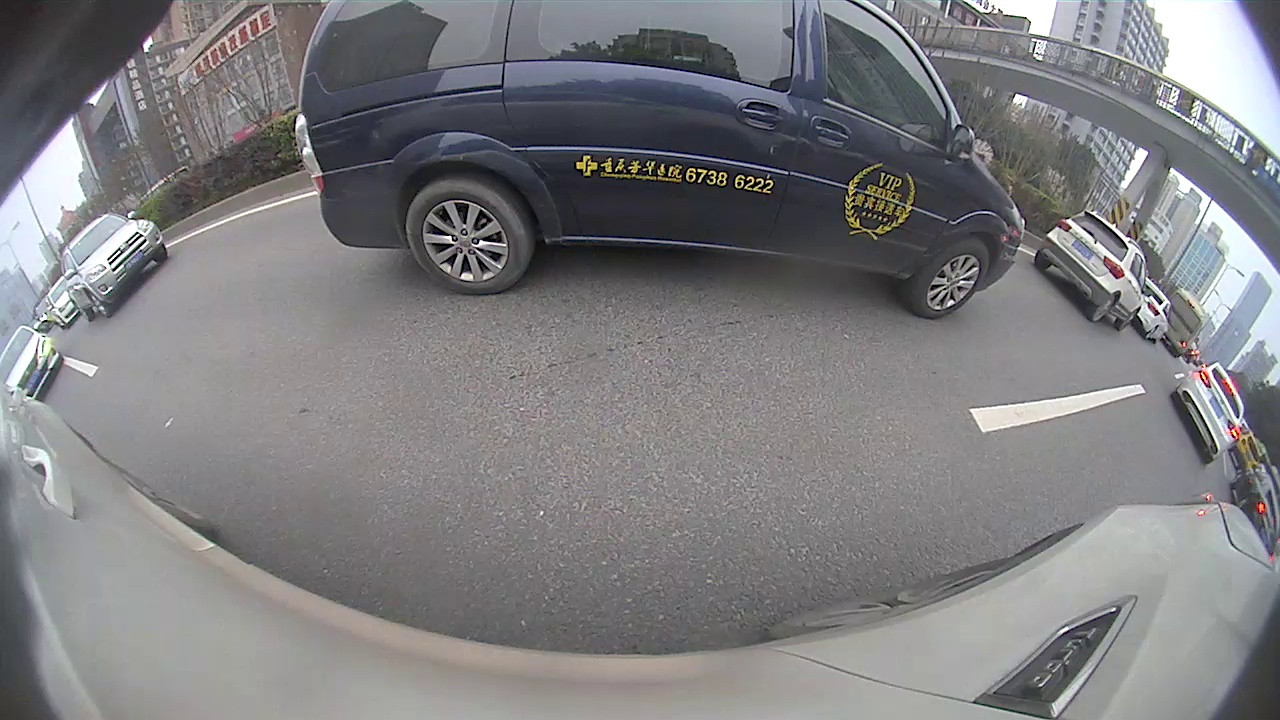car: (294, 3, 1024, 322), (1033, 208, 1147, 330), (58, 208, 170, 322), (1169, 363, 1247, 466)
front: (910, 241, 986, 310)
rear: (407, 181, 534, 294), (1089, 293, 1116, 324)
